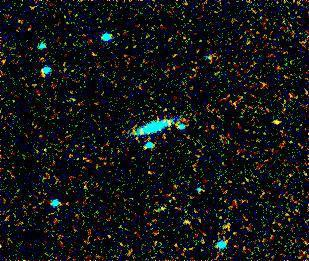star: (268, 107, 298, 137)
